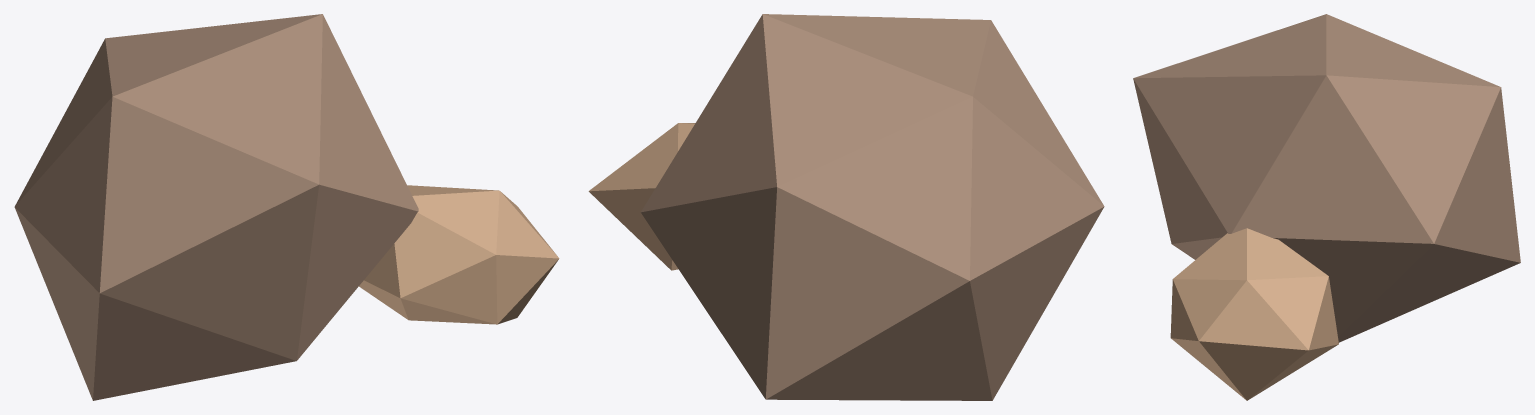
File: RockA.glb
3 views of the same model, side by side, from view 1: azimuth 30°, elevation 25°; view 2: azimuth 150°, elevation 25°; view 3: azimuth 270°, elevation 25° (orthographic). The views are drawn at different scales.
Parts seen in each view (by area): view 1: RockA; view 2: RockA; view 3: RockA.
Boxes of the visible parts, x1,y1,x2,y2 form: RockA: [14, 14, 559, 400]; RockA: [588, 14, 1104, 400]; RockA: [1133, 14, 1520, 400].
Size of the model in its own units: 3.5 by 2.37 by 2.93.
